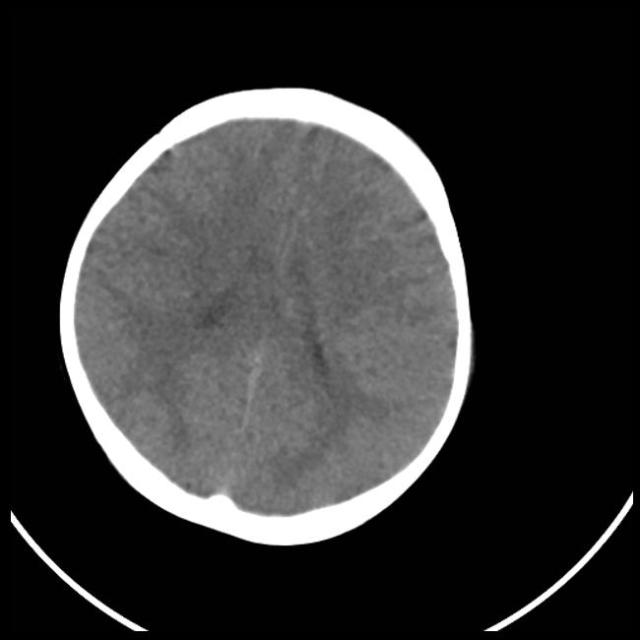lesion: (59, 88, 477, 540)
